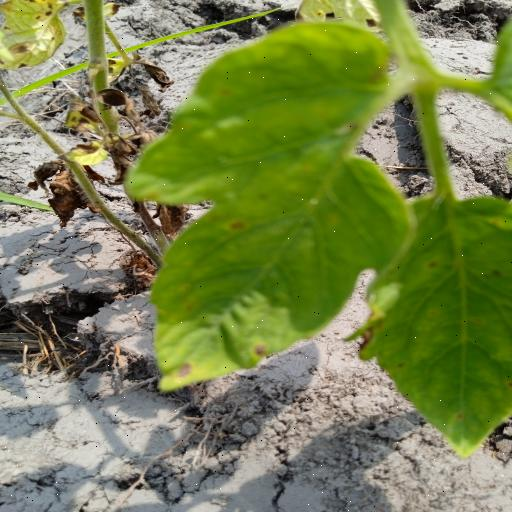Tomato_Brown_Spots: (142, 127, 419, 392)
